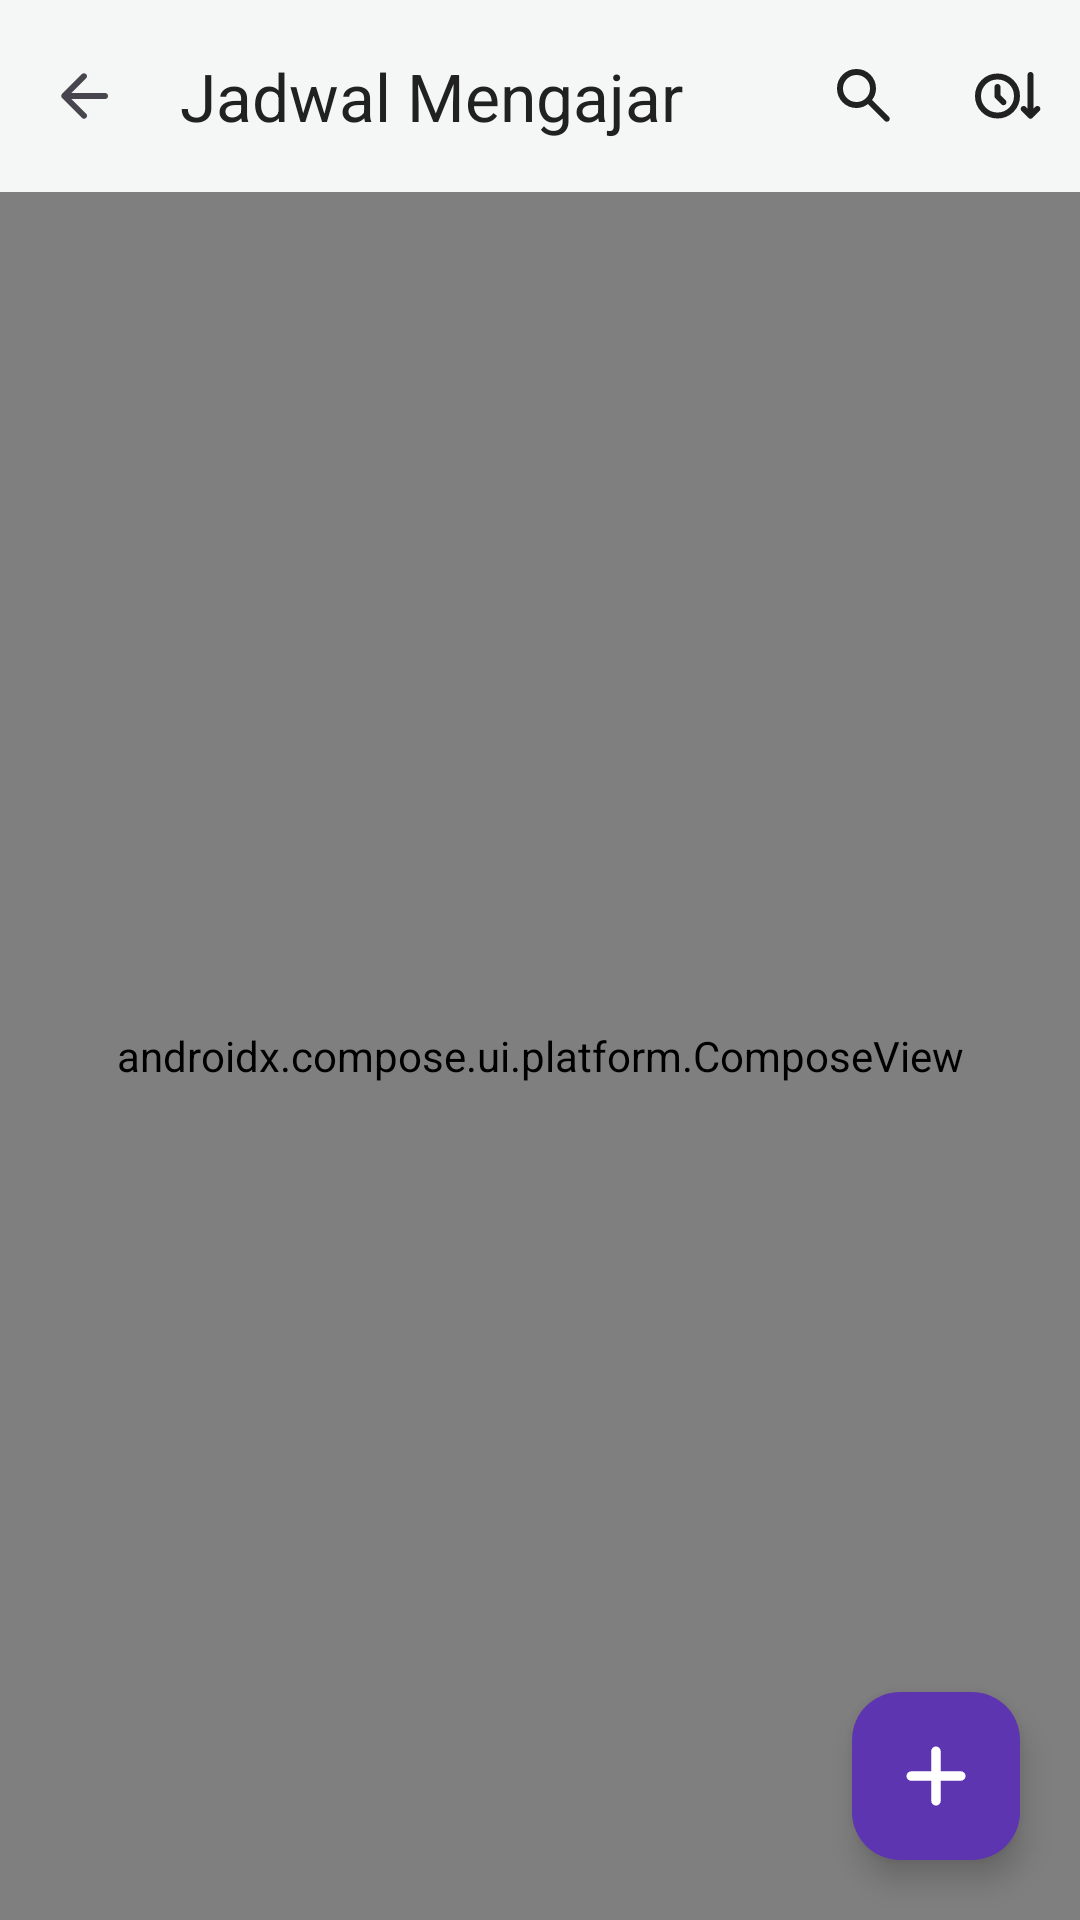

Icons on this 1080w x 1920h Android screen, each with the point to tap as point (x, y):
Tambah jadwal mengajar: point (936, 1776)
